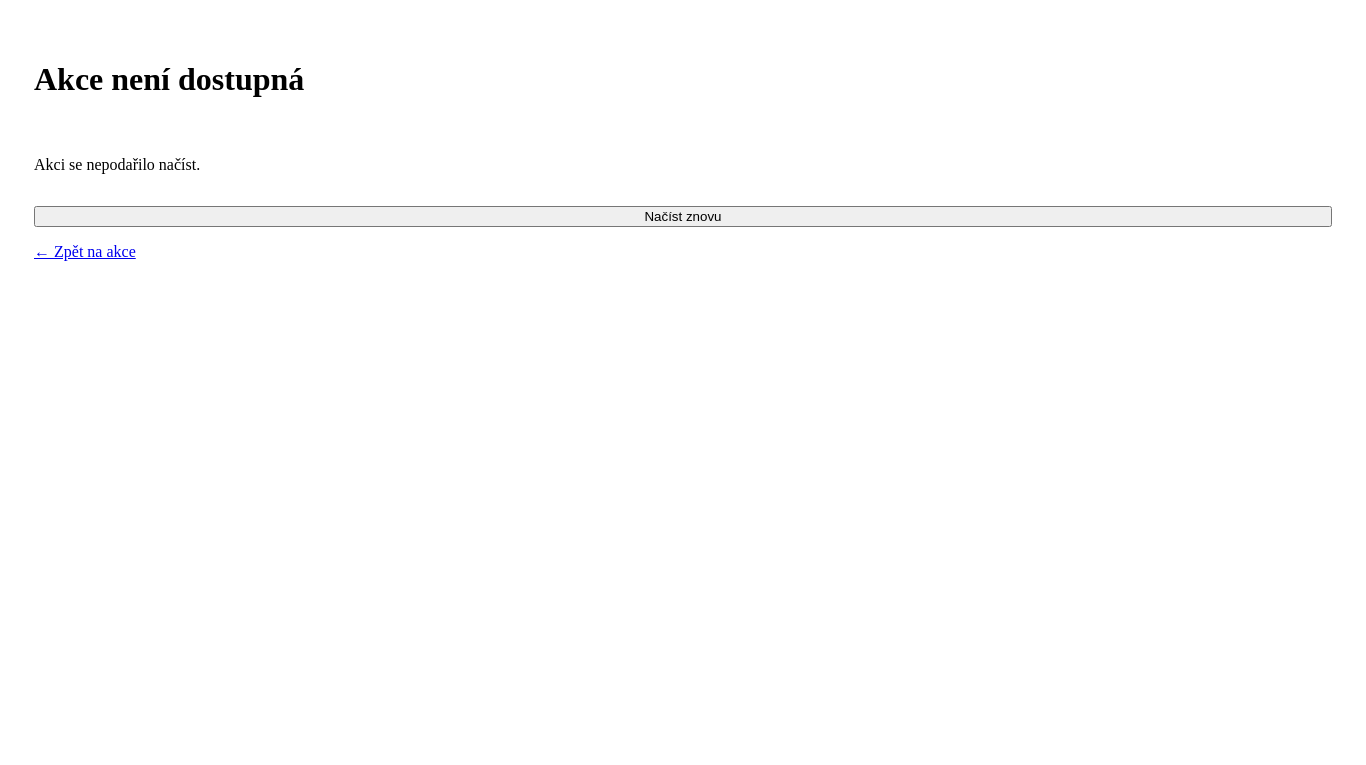
Test: allows retrying a detail load error
expect the message "Akci se nepodařilo načíst." is shown: met, box [34,156,200,173]
Click the button "Načíst znovu": click(683, 216) [34,206,1332,227]
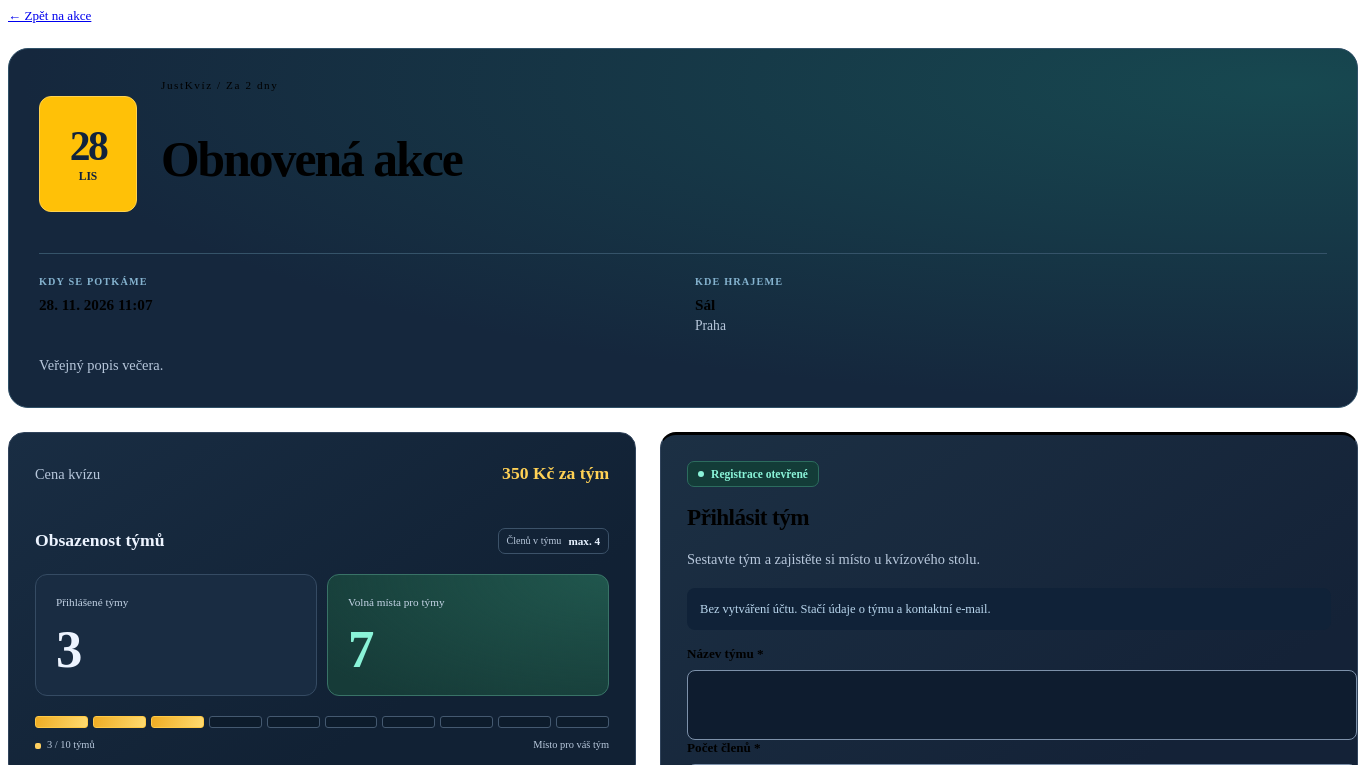
expect the heading "Obnovená akce" is shown: met, box [161,132,462,188]
